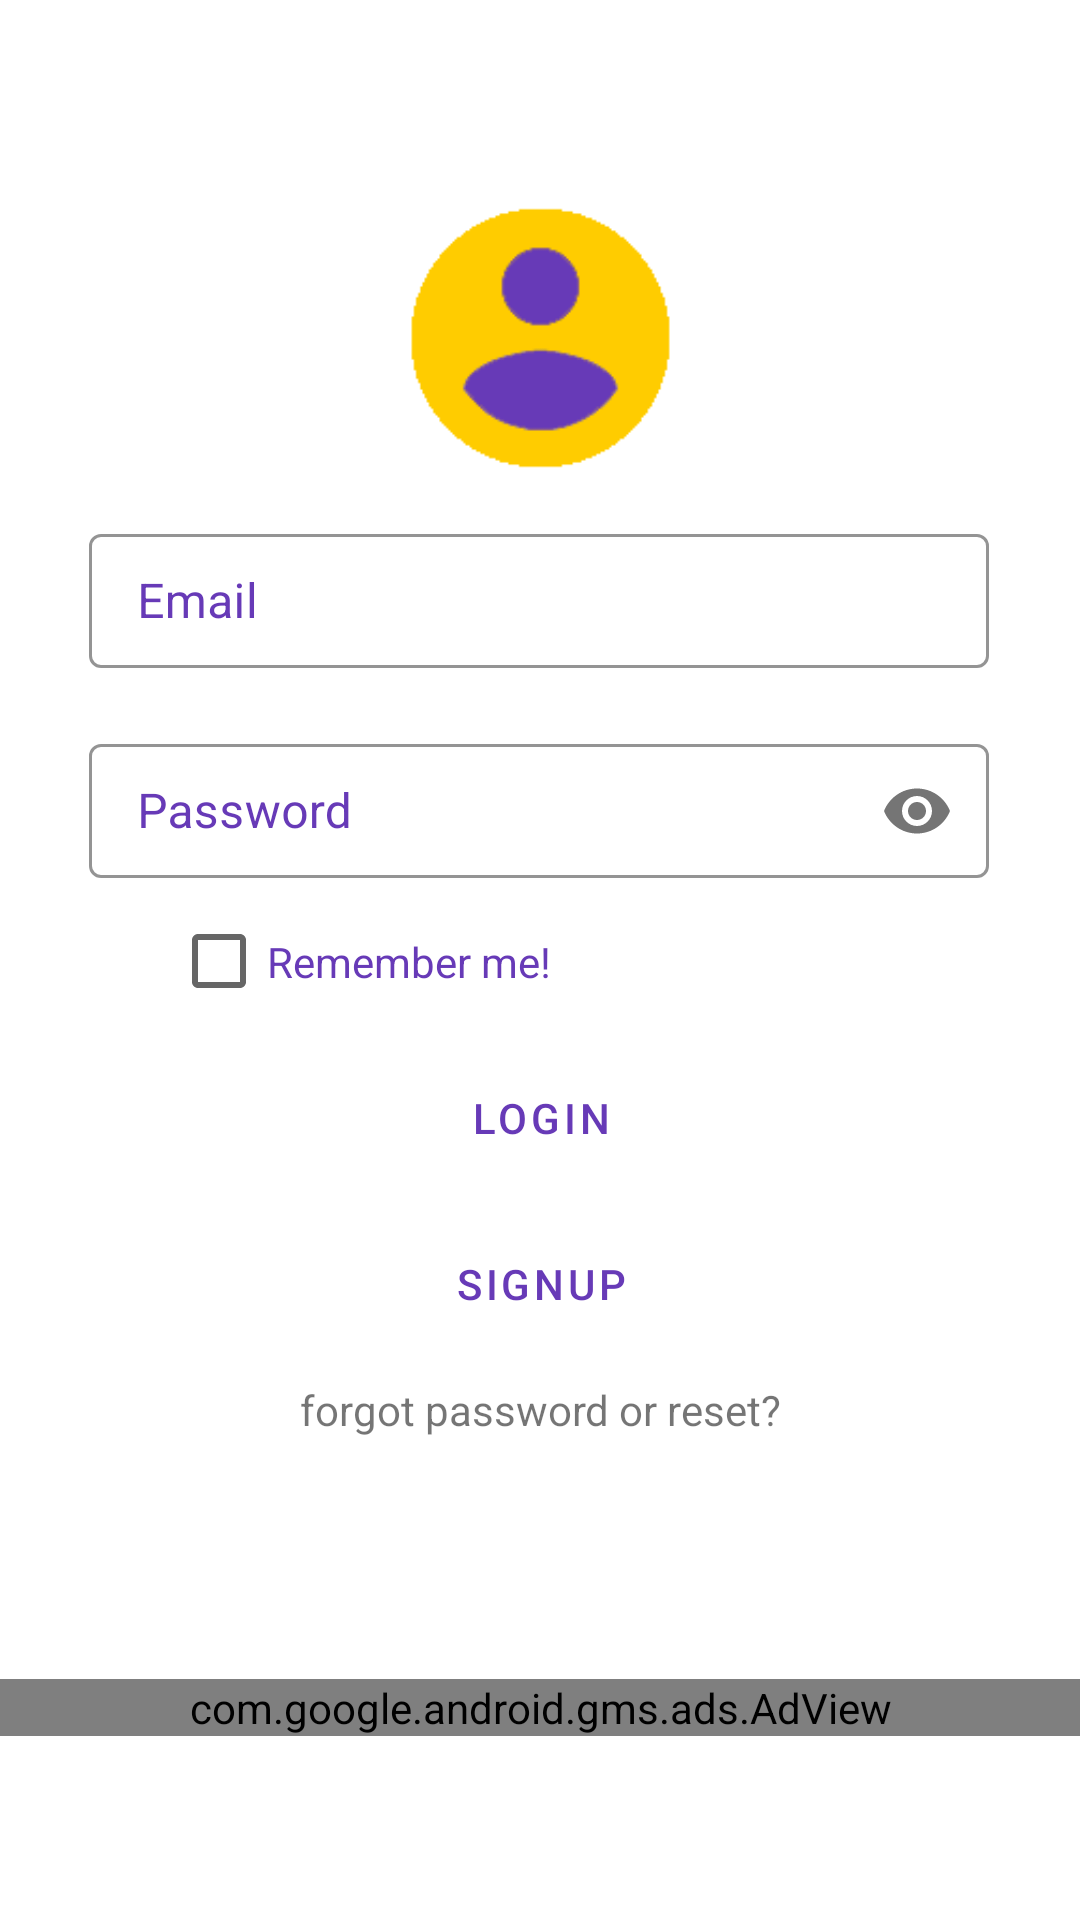

Point at icon controls on the screen. Image size 1080 x 1920, points as [x,y].
acount: [540,338]
